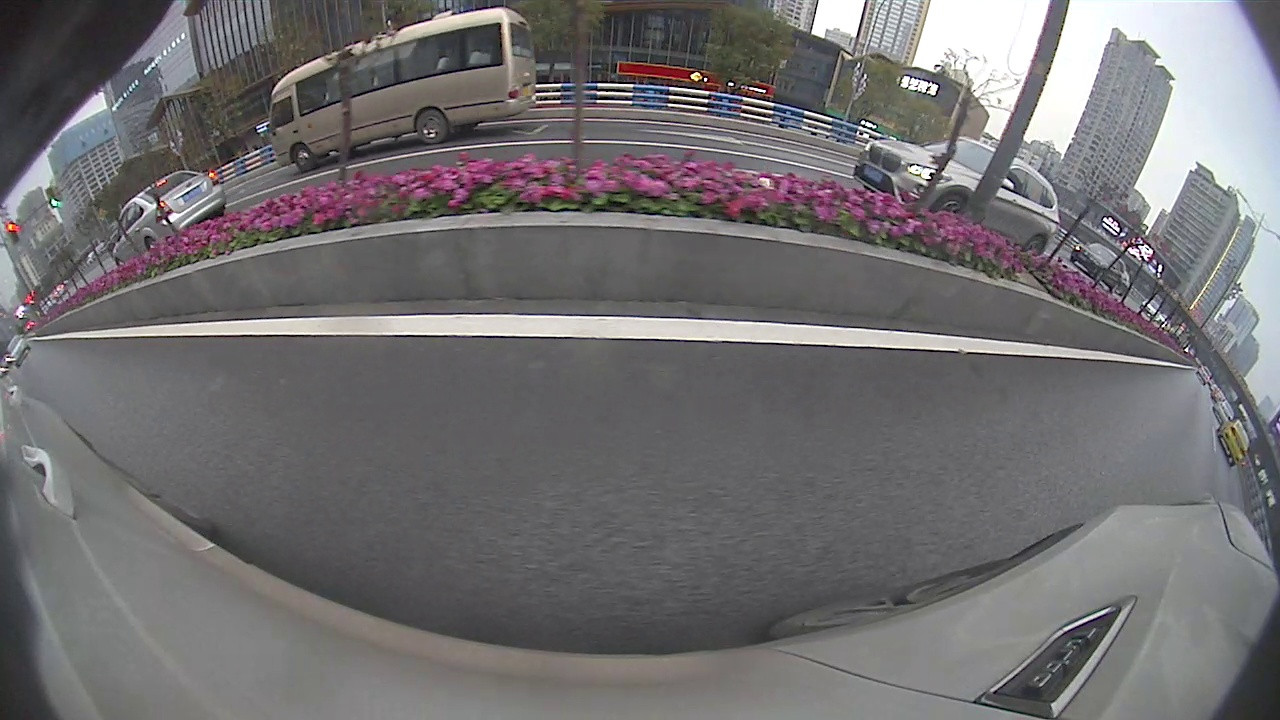bus: (268, 6, 539, 174)
car: (1216, 418, 1252, 468)
front: (292, 143, 319, 173)
rear: (414, 108, 451, 145)
